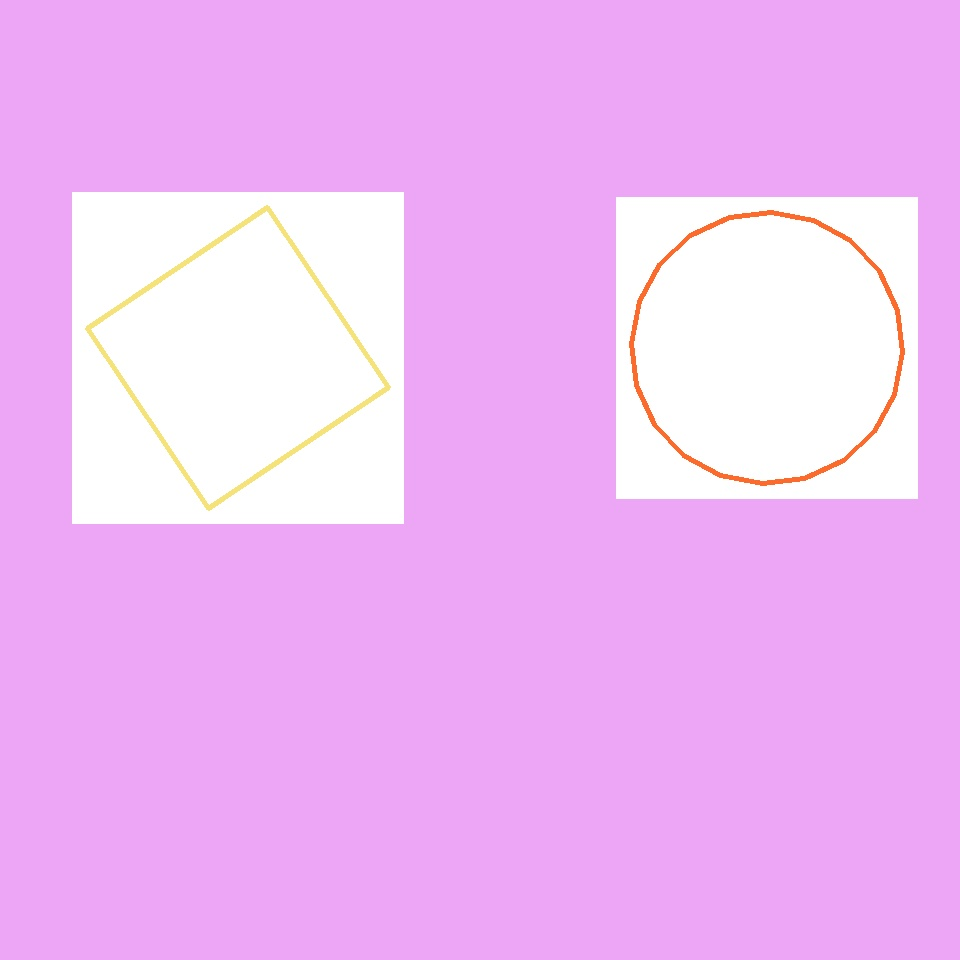circle: (296, 508, 544, 794), (244, 487, 388, 647), (346, 36, 454, 136)
square: (88, 208, 388, 508)
triangle: (100, 420, 394, 714), (632, 212, 902, 484), (93, 178, 212, 298)
